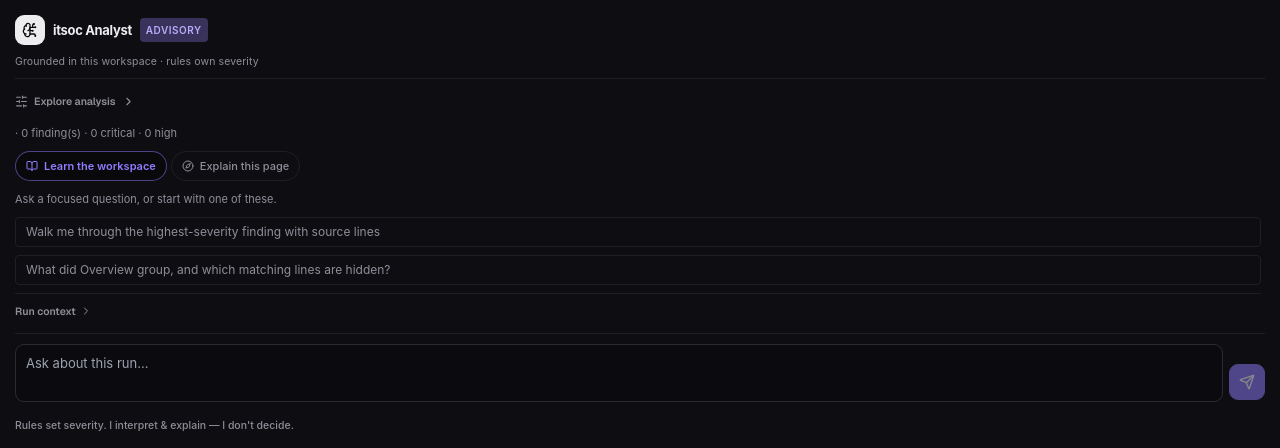
AI copilot Showcase (design-v2 §4) › shows an honest 'nothing matches' when the view has no rows — never invents
In the text box named "Ask the AI analyst": (619, 373) [15,344,1223,402], type "Show me the top 5 findings"
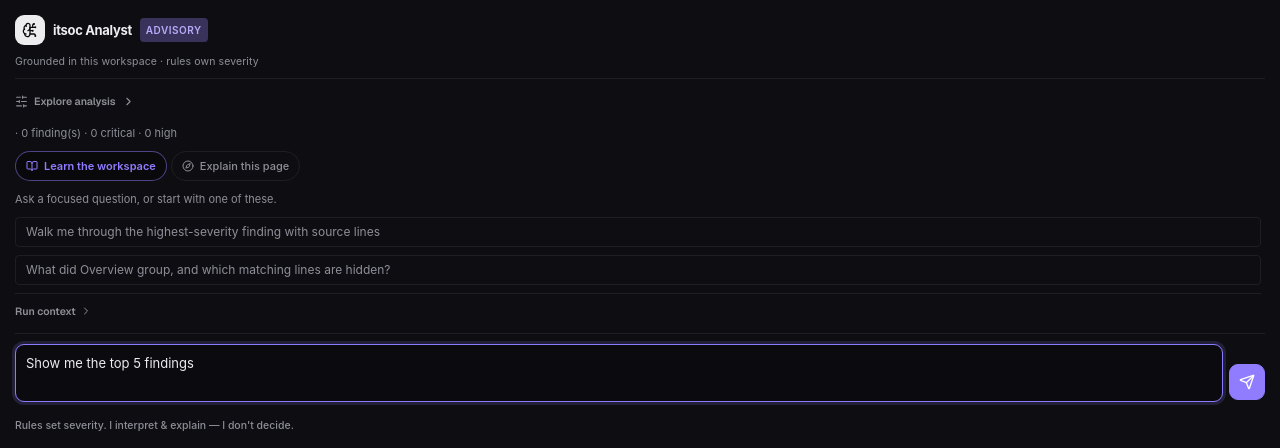
Click the button named "Send": (1247, 382) [1229,364,1265,400]
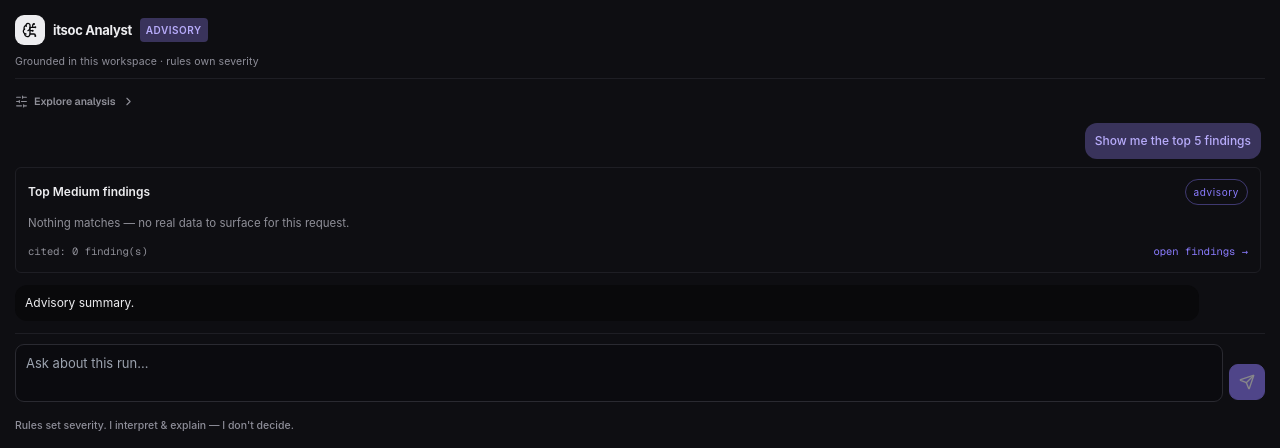
Expected: the text "Nothing matches — no real data to surface for this request." is shown, [28,216,349,230]
Expected: the text "cited: 0 finding(s)" is shown, [28,241,148,261]
